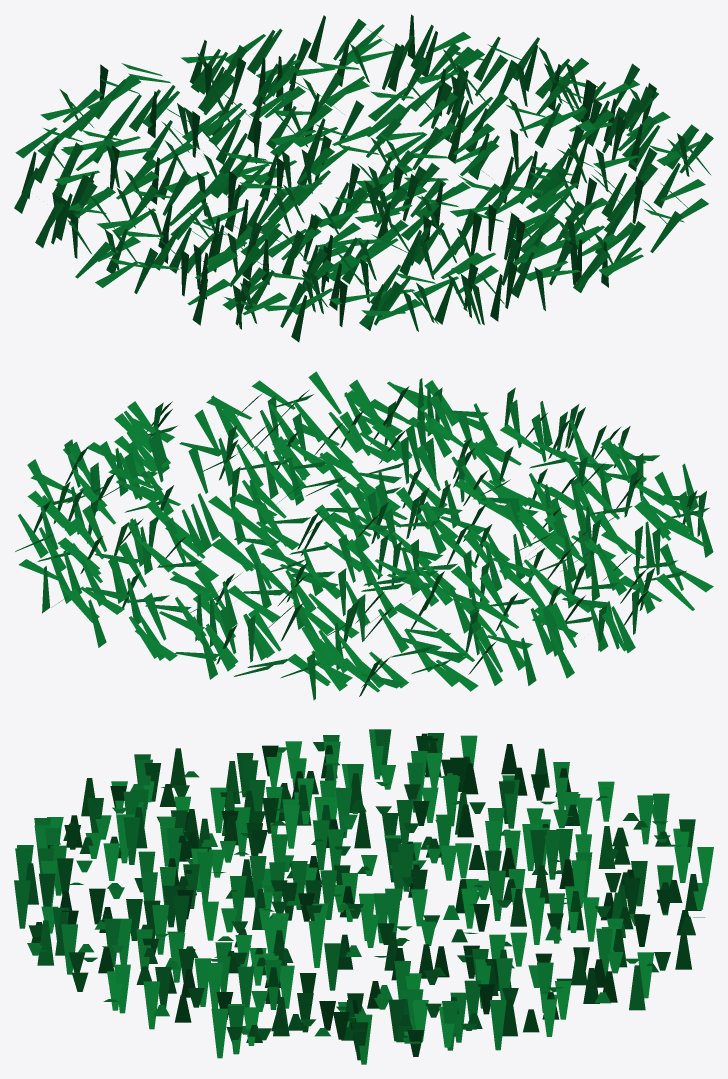
File: Grass.fbx
3 renders of one model, top to bottom at view 1: azimuth 30°, elevation 25°; view 2: azimuth 150°, elevation 25°; view 3: azimuth 270°, elevation 25°, orthographic. The views are drawn at different scales.
Parts seen in each view (by area): view 1: Plane.422; view 2: Plane.422; view 3: Plane.422.
Boxes of the visible parts, x1=… form: Plane.422: x1=14, y1=14, x2=713, y2=342; Plane.422: x1=15, y1=371, x2=713, y2=700; Plane.422: x1=14, y1=729, x2=713, y2=1064.
Bounding box in the file's own units: 587 × 40 × 558.
